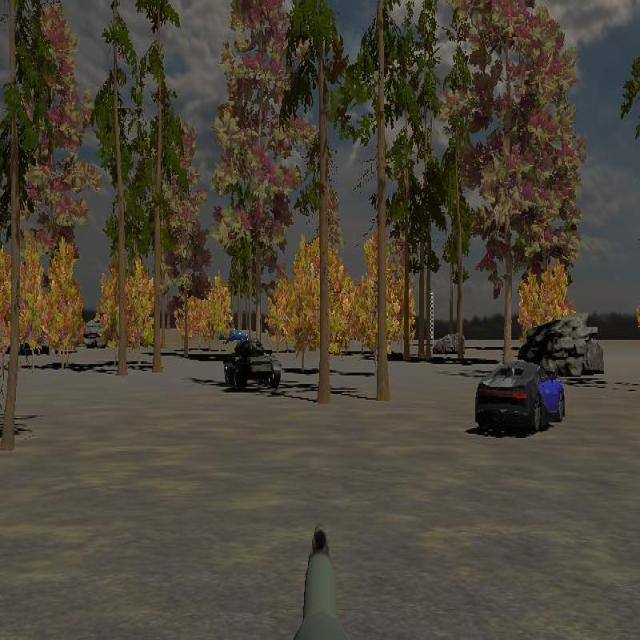Tank: (224, 337, 282, 392)
car: (474, 358, 566, 435)
